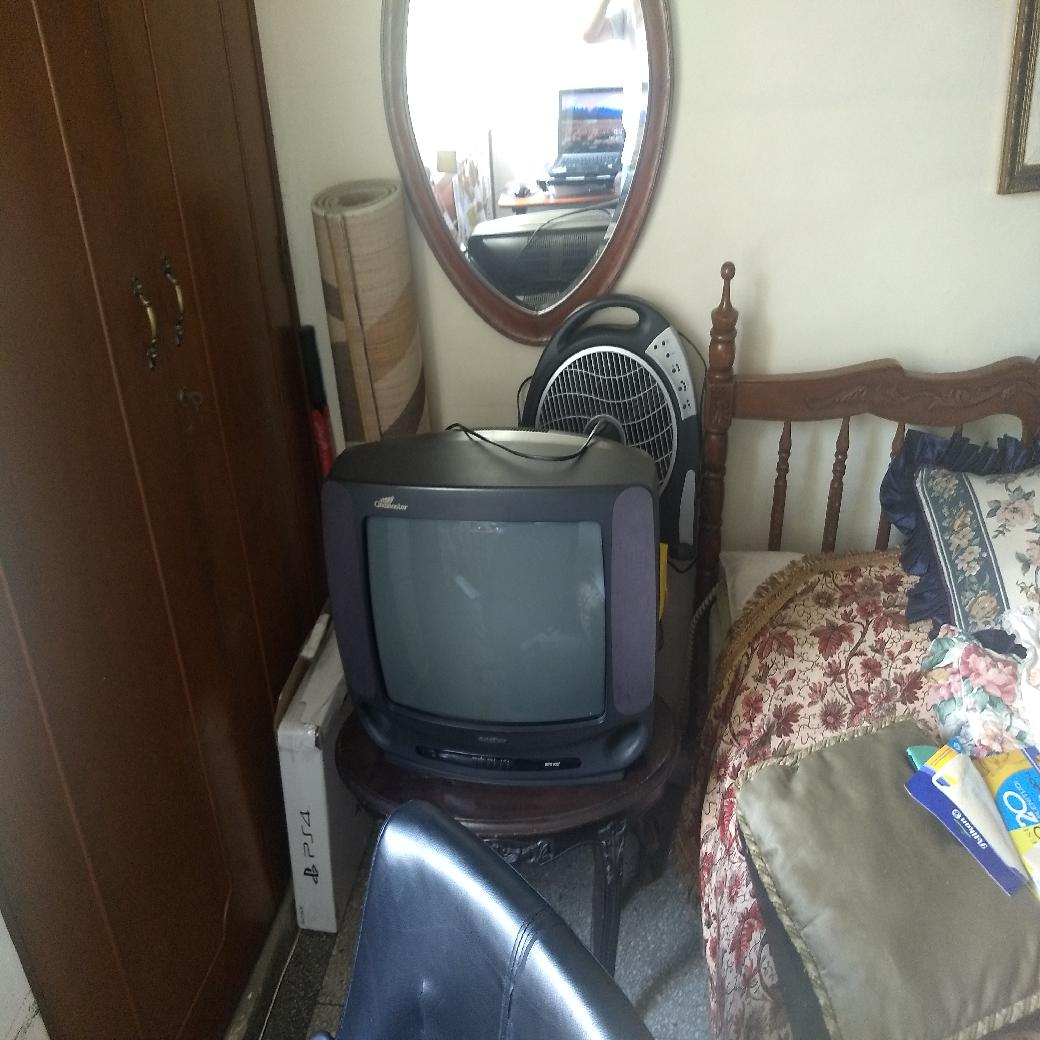tv: (318, 429, 664, 786)
